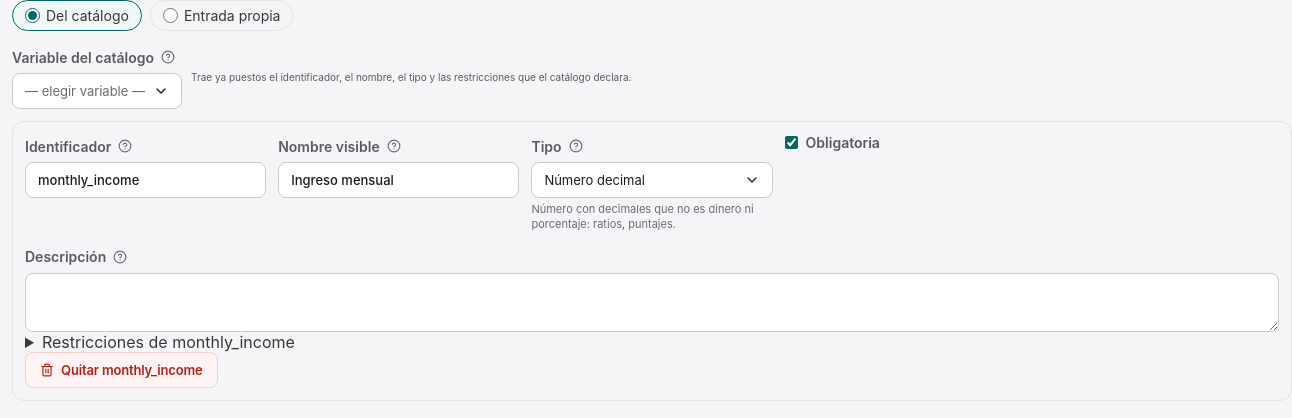
Test case: entradas de un campo calculado › no ofrece una variable que ya está declarada como entrada
Click the dropdown named "Variable del catálogo": click(97, 91) [12,73,182,109]
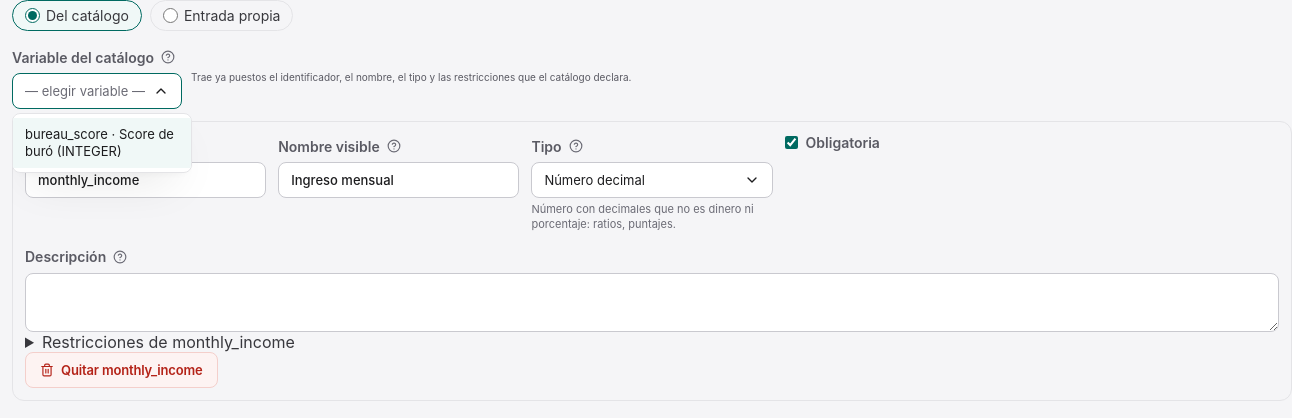
Expected: the option "bureau_score · Score de buró (INTEGER)" is shown, [13,118,191,168]
